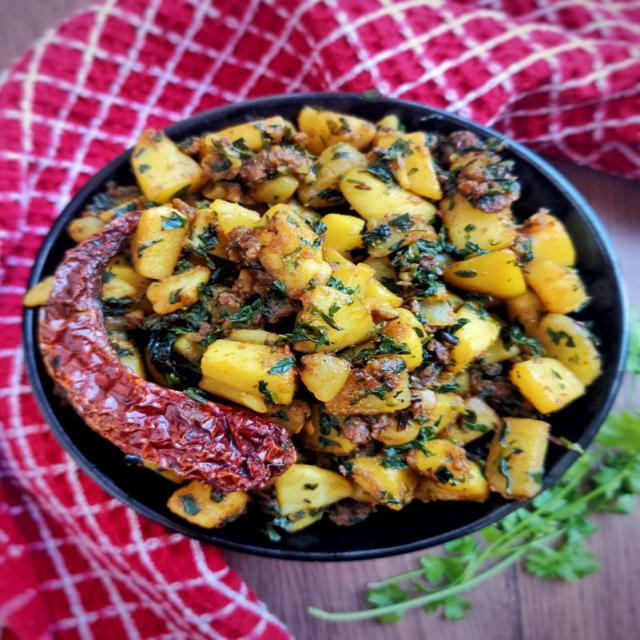Aloo Methi: (45, 111, 589, 530)
